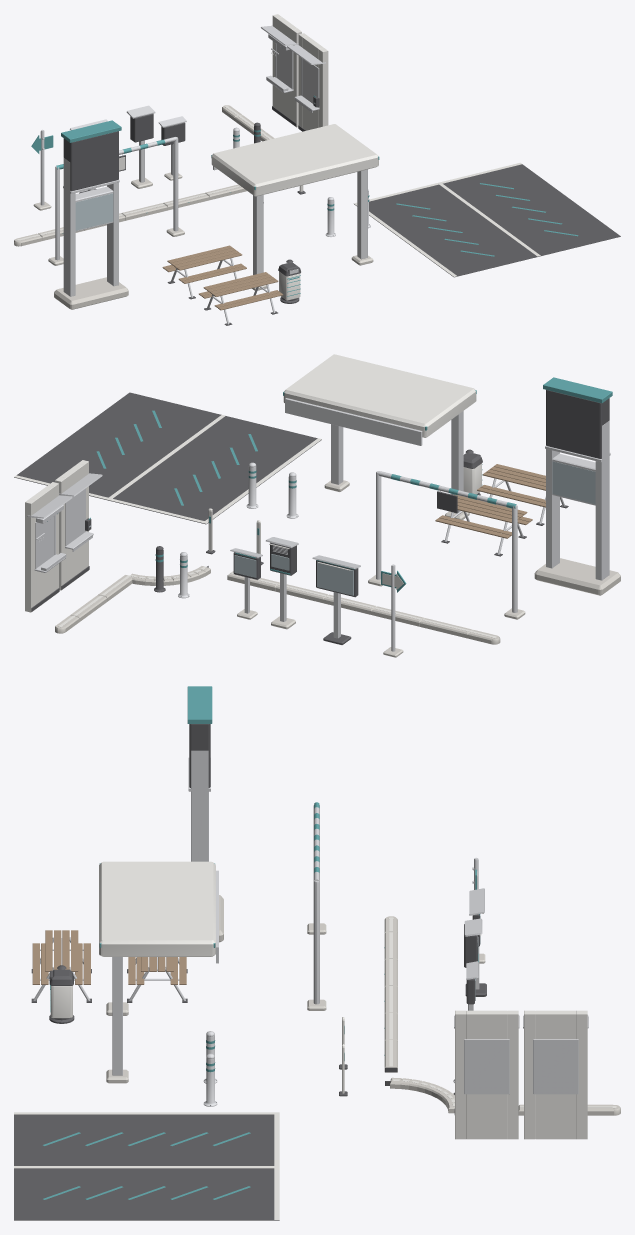
Rendered from fast-food-and-drive-thru-qsr-drive-thru-lane-3d2cd807__16231.glb.
3 renders of one model, top to bottom at view 1: azimuth 30°, elevation 25°; view 2: azimuth 150°, elevation 25°; view 3: azimuth 270°, elevation 25°, orthographic. The views are drawn at different scales.
Parts seen in each view (by area): view 1: 023-car-park-bay-marking/0, 024-car-park-bay-marking/0, 021-entrance-canopy/2, 022-pylon-sign-frame/1, 022-pylon-sign-frame/2, 021-entrance-canopy/1, 019-drive-thru-payment-window/0, 020-drive-thru-collection-window/0, 025-outdoor-picnic-bench/2, 026-outdoor-picnic-bench/2, 022-pylon-sign-frame/0, 020-drive-thru-collection-window/1 (+9 smaller); view 2: 023-car-park-bay-marking/0, 024-car-park-bay-marking/0, 021-entrance-canopy/2, 022-pylon-sign-frame/1, 021-entrance-canopy/1, 022-pylon-sign-frame/2, 020-drive-thru-collection-window/0, 019-drive-thru-payment-window/0, 022-pylon-sign-frame/0, 014-height-restriction-bar/1, 020-drive-thru-collection-window/1, 025-outdoor-picnic-bench/2 (+18 smaller); view 3: 024-car-park-bay-marking/0, 023-car-park-bay-marking/0, 021-entrance-canopy/2, 019-drive-thru-payment-window/0, 020-drive-thru-collection-window/0, 019-drive-thru-payment-window/1, 020-drive-thru-collection-window/1, 026-outdoor-picnic-bench/2, 022-pylon-sign-frame/1, 021-entrance-canopy/1, 025-outdoor-picnic-bench/2, 014-height-restriction-bar/1 (+6 smaller).
Part boxes in pixels (<box>): 023-car-park-bay-marking/0: <box>354,184,536,277</box>; 024-car-park-bay-marking/0: <box>443,164,620,256</box>; 021-entrance-canopy/2: <box>211,124,378,196</box>; 022-pylon-sign-frame/1: <box>63,158,119,296</box>; 022-pylon-sign-frame/2: <box>63,131,118,191</box>; 021-entrance-canopy/1: <box>213,166,367,274</box>; 019-drive-thru-payment-window/0: <box>298,33,328,130</box>; 020-drive-thru-collection-window/0: <box>272,14,301,127</box>; 025-outdoor-picnic-bench/2: <box>162,245,246,283</box>; 026-outdoor-picnic-bench/2: <box>199,272,283,310</box>; 022-pylon-sign-frame/0: <box>54,277,128,309</box>; 020-drive-thru-collection-window/1: <box>261,25,298,92</box>; 023-car-park-bay-marking/0: <box>110,416,321,524</box>; 024-car-park-bay-marking/0: <box>14,392,221,500</box>; 021-entrance-canopy/2: <box>283,354,476,437</box>; 022-pylon-sign-frame/1: <box>545,420,610,580</box>; 021-entrance-canopy/1: <box>285,398,463,513</box>; 022-pylon-sign-frame/2: <box>546,390,609,458</box>; 020-drive-thru-collection-window/0: <box>25,482,58,612</box>; 019-drive-thru-payment-window/0: <box>55,460,88,590</box>; 022-pylon-sign-frame/0: <box>534,558,620,595</box>; 014-height-restriction-bar/1: <box>376,471,517,612</box>; 020-drive-thru-collection-window/1: <box>27,495,72,572</box>; 025-outdoor-picnic-bench/2: <box>435,494,532,538</box>; 024-car-park-bay-marking/0: <box>14,1168,279,1220</box>; 023-car-park-bay-marking/0: <box>14,1114,274,1165</box>; 021-entrance-canopy/2: <box>99,861,215,956</box>; 019-drive-thru-payment-window/0: <box>455,1010,518,1139</box>; 020-drive-thru-collection-window/0: <box>524,1010,587,1139</box>; 019-drive-thru-payment-window/1: <box>454,1015,519,1094</box>; 020-drive-thru-collection-window/1: <box>523,1015,588,1094</box>; 026-outdoor-picnic-bench/2: <box>32,930,90,984</box>; 022-pylon-sign-frame/1: <box>188,750,210,861</box>; 021-entrance-canopy/1: <box>112,870,218,1075</box>; 025-outdoor-picnic-bench/2: <box>128,957,186,984</box>; 014-height-restriction-bar/1: <box>313,804,319,1004</box>.
Size of the model in its own units: 14.05 by 4.6 by 11.43.
